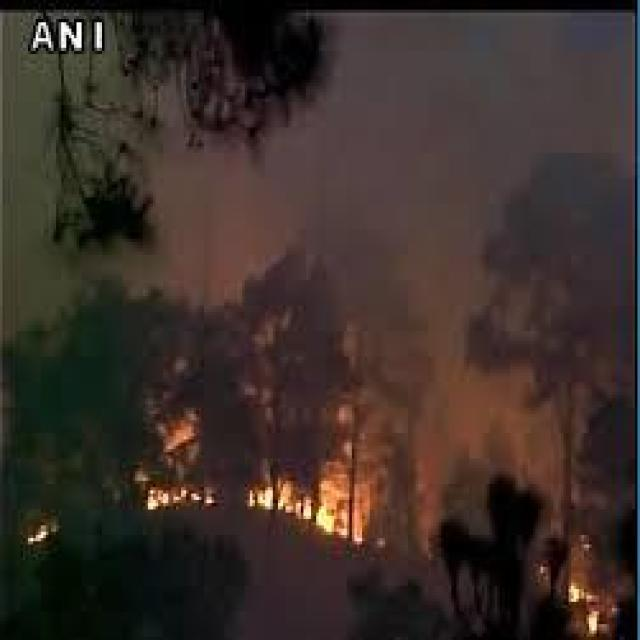fire: (150, 412, 364, 590)
smoke: (285, 7, 499, 286), (385, 315, 539, 548)
